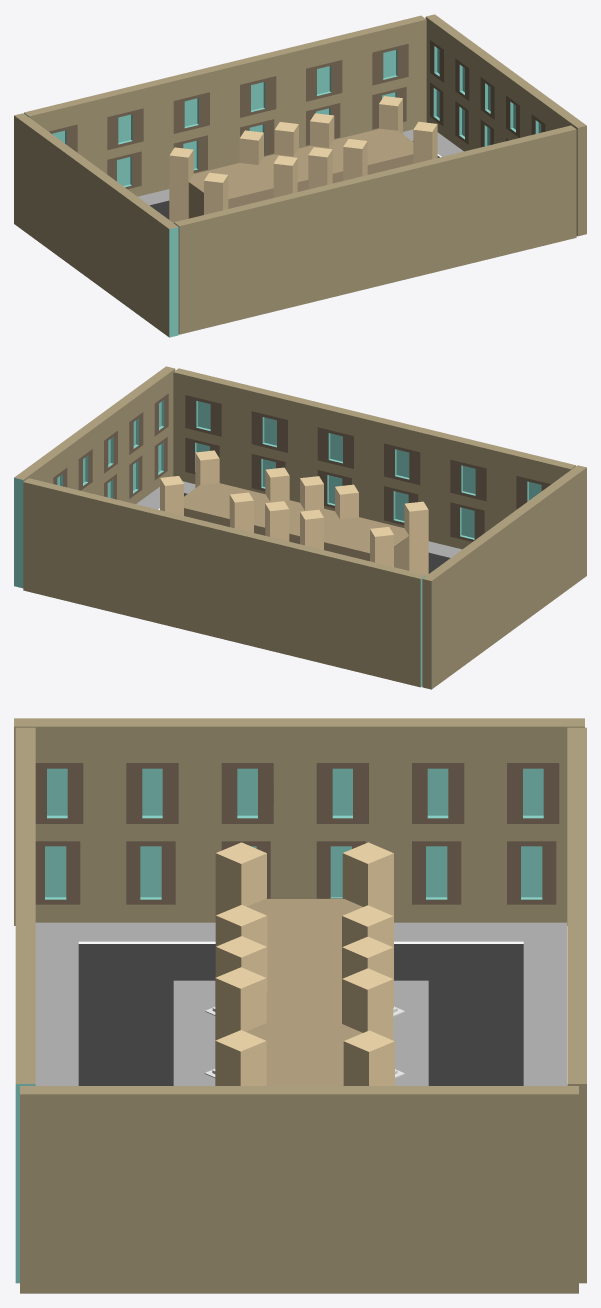
Rendered from lobby2.glb.
3 renders of one model, top to bottom at view 1: azimuth 30°, elevation 25°; view 2: azimuth 150°, elevation 25°; view 3: azimuth 270°, elevation 25°, orthographic. The views are drawn at different scales.
Parts seen in each view (by area): view 1: Cube.043, Cube.042, Cube.044, Cube.045, Plane, Cube.005, Cube.002, Cube.004, colummna.001, Cube.003, colummna.002, Cube.009 (+4 smaller); view 2: Cube.042, Cube.043, Cube.044, Cube.045, Plane, Cube.004, Cube.007, colummna, Cube.006, Cube.005, Cube.009, colummna.001 (+4 smaller); view 3: Cube.045, Cube.044, Plane.011, Plane.015, Plane, Cube.042, Cube.043, Plane.014, Cube.005, Cube.004, colummna.002, colummna (+6 smaller).
Boxes of the visible parts, bbox=[...] form: Cube.043: bbox=[174, 125, 576, 334]; Cube.042: bbox=[24, 15, 426, 196]; Cube.044: bbox=[14, 113, 178, 337]; Cube.045: bbox=[425, 14, 586, 236]; Plane: bbox=[188, 128, 413, 218]; Cube.005: bbox=[169, 147, 193, 222]; Cube.002: bbox=[308, 147, 332, 189]; Cube.004: bbox=[204, 172, 228, 214]; colummna.001: bbox=[413, 121, 437, 163]; Cube.003: bbox=[273, 155, 297, 197]; colummna.002: bbox=[343, 139, 367, 180]; Cube.009: bbox=[379, 96, 402, 133]; Cube.042: bbox=[23, 478, 425, 687]; Cube.043: bbox=[173, 368, 575, 549]; Cube.044: bbox=[422, 465, 586, 689]; Cube.045: bbox=[14, 366, 175, 588]; Plane: bbox=[184, 483, 409, 570]; Cube.004: bbox=[404, 501, 428, 575]; Cube.007: bbox=[265, 501, 289, 541]; colummna: bbox=[229, 492, 253, 532]; Cube.006: bbox=[300, 509, 323, 549]; Cube.005: bbox=[370, 527, 393, 566]; Cube.009: bbox=[160, 476, 183, 515]; colummna.001: bbox=[195, 450, 219, 487]; Cube.045: bbox=[20, 1086, 578, 1293]; Cube.044: bbox=[14, 718, 584, 925]; Plane.011: bbox=[78, 944, 523, 1085]; Plane.015: bbox=[35, 922, 566, 1085]; Plane: bbox=[246, 898, 362, 1085]; Cube.042: bbox=[567, 727, 586, 1283]; Cube.043: bbox=[15, 727, 35, 1283]; Plane.014: bbox=[173, 980, 428, 1085]; Cube.005: bbox=[342, 842, 393, 1007]; Cube.004: bbox=[215, 842, 266, 977]; colummna.002: bbox=[215, 967, 266, 1040]; colummna: bbox=[342, 968, 393, 1040].
Size of the model in its own units: 89.74 by 22.44 by 57.8.
